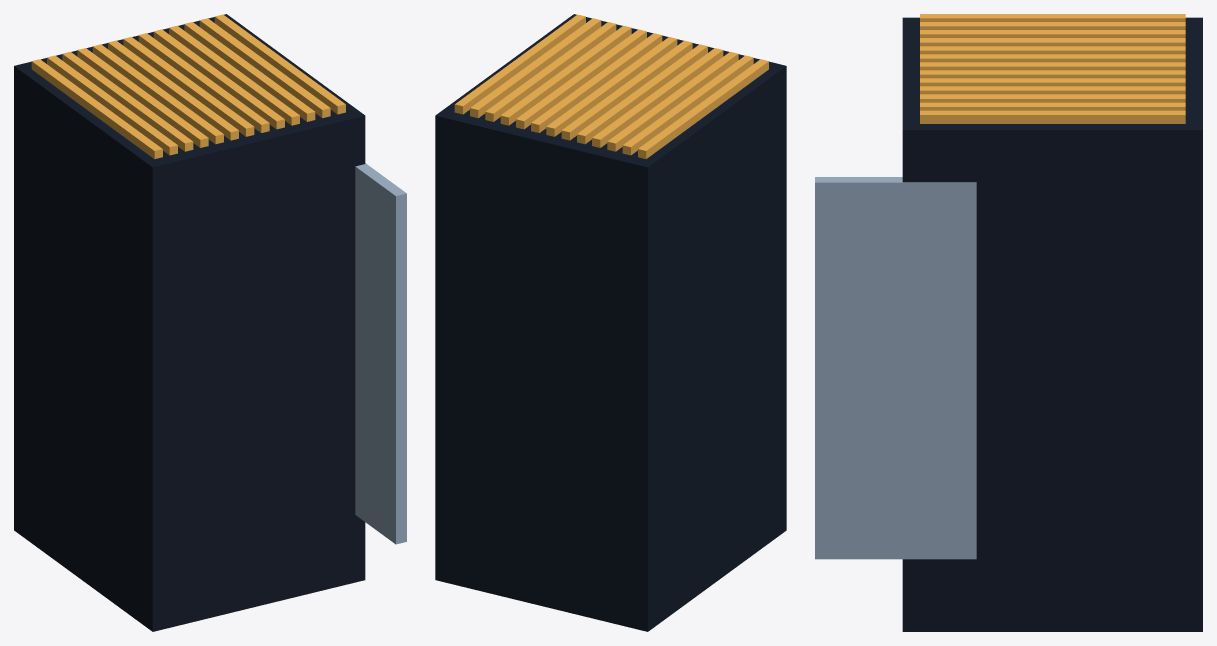
Rendered from 11_L91_PhotonSafetyShieldEnclosure.fbx.
3 renders of one model, left to right at view 1: azimuth 30°, elevation 25°; view 2: azimuth 150°, elevation 25°; view 3: azimuth 270°, elevation 25°, orthographic. The views are drawn at different scales.
Visible parts, largest first — view 1: L91_PhotonSafetyShieldEnclosure; view 2: L91_PhotonSafetyShieldEnclosure; view 3: L91_PhotonSafetyShieldEnclosure.
Boxes of the visible parts, bbox=[...] form: L91_PhotonSafetyShieldEnclosure: bbox=[14, 14, 406, 631]; L91_PhotonSafetyShieldEnclosure: bbox=[435, 14, 786, 631]; L91_PhotonSafetyShieldEnclosure: bbox=[815, 14, 1202, 631].
Bounding box in the file's own units: 231 × 488 × 336.
